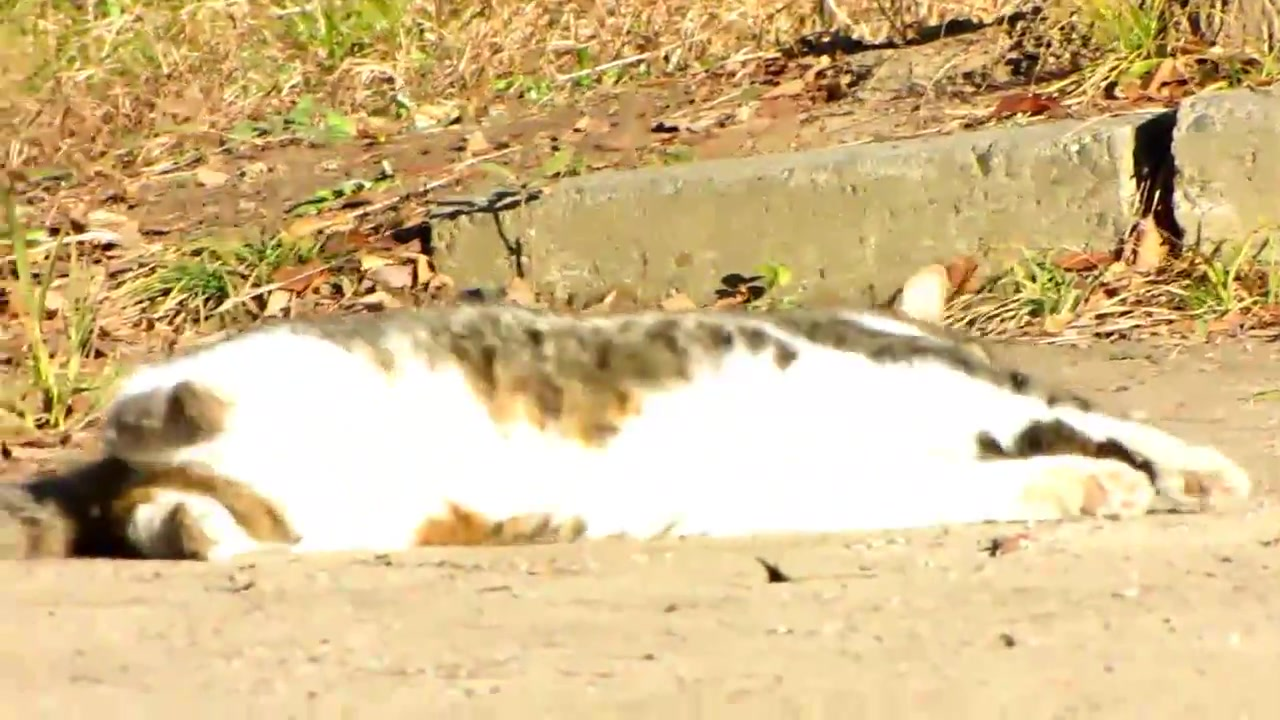cat: (1, 261, 1256, 562)
